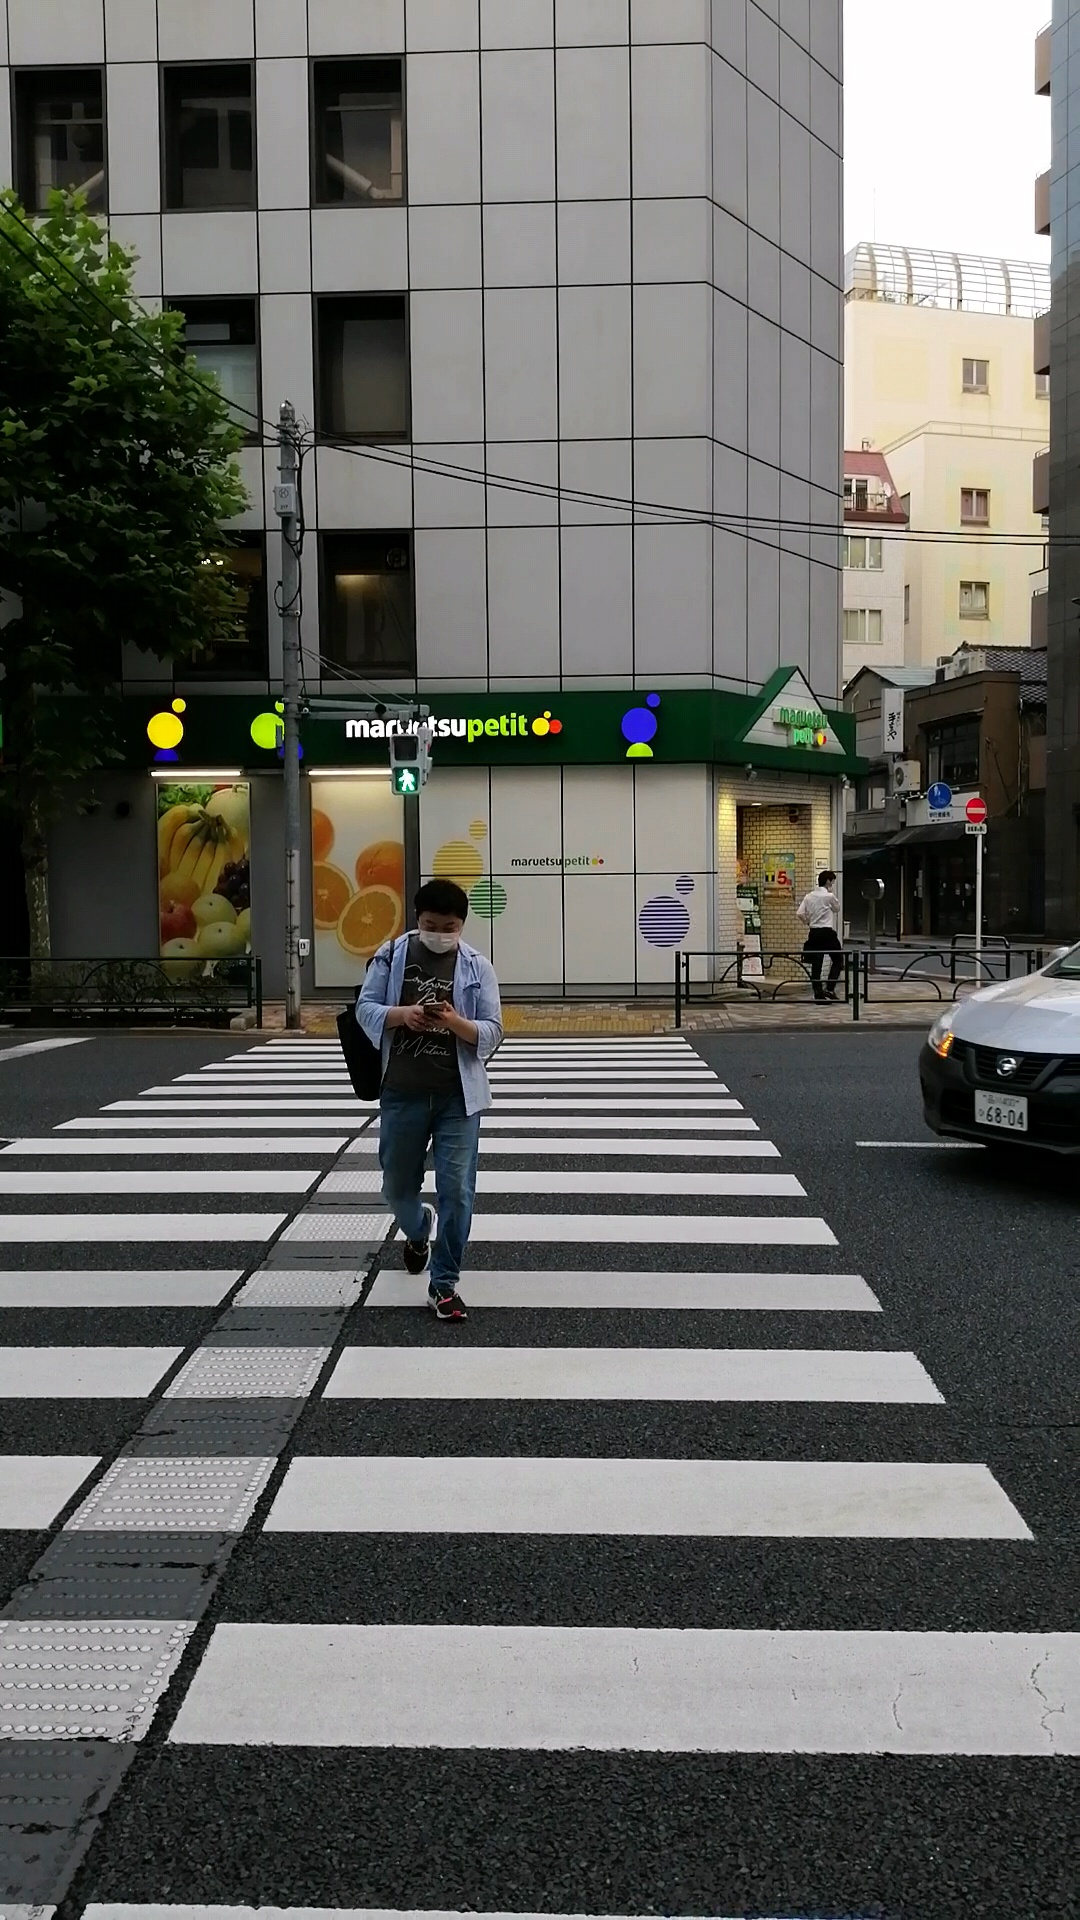green: (388, 733, 423, 796)
